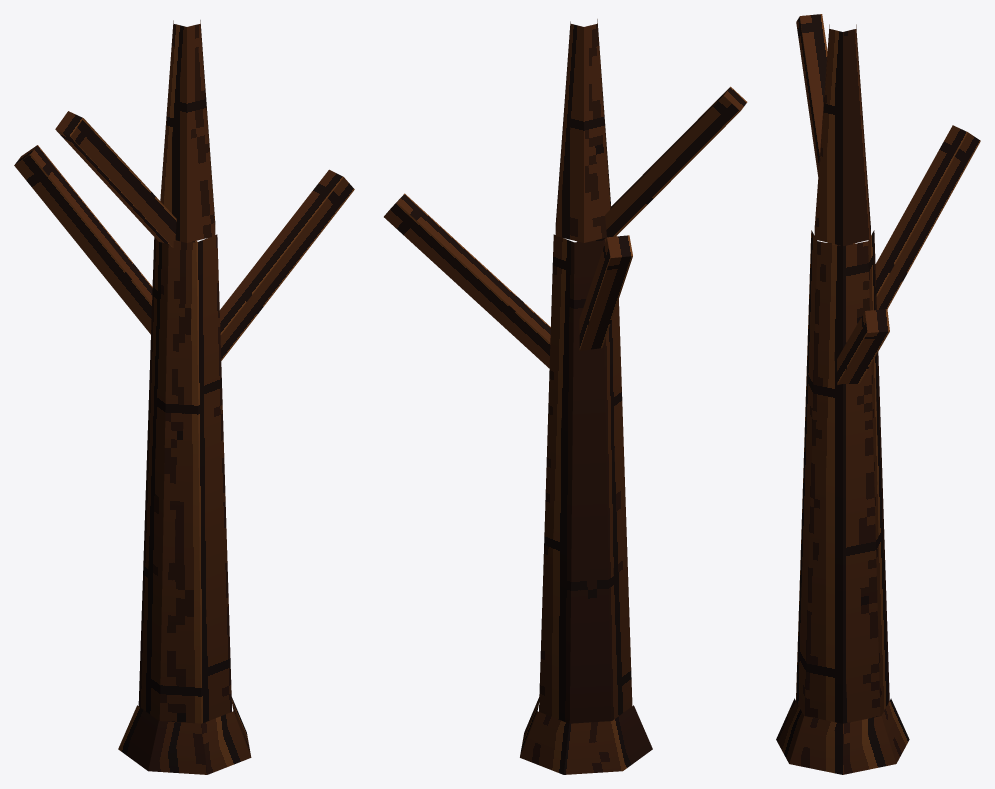
File: apple_2_trunk.glb
3 renders of one model, left to right at view 1: azimuth 30°, elevation 25°; view 2: azimuth 150°, elevation 25°; view 3: azimuth 270°, elevation 25°, orthographic.
Parts seen in each view (by area): view 1: apple_2_trunk; view 2: apple_2_trunk; view 3: apple_2_trunk.
Part boxes in pixels (box(x1,y1,x2,y2)): apple_2_trunk: box(14, 20, 354, 774); apple_2_trunk: box(384, 19, 747, 774); apple_2_trunk: box(776, 14, 980, 774).
Size of the model in its own units: 1.95 by 4.18 by 1.08.
1 material, 1 textured.
